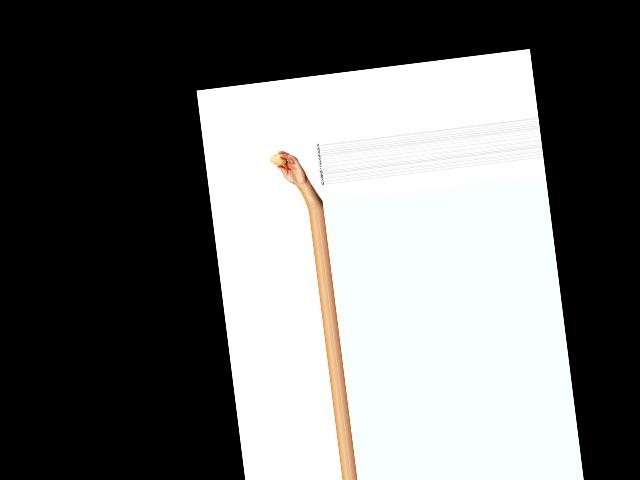egg: (269, 152, 288, 167)
